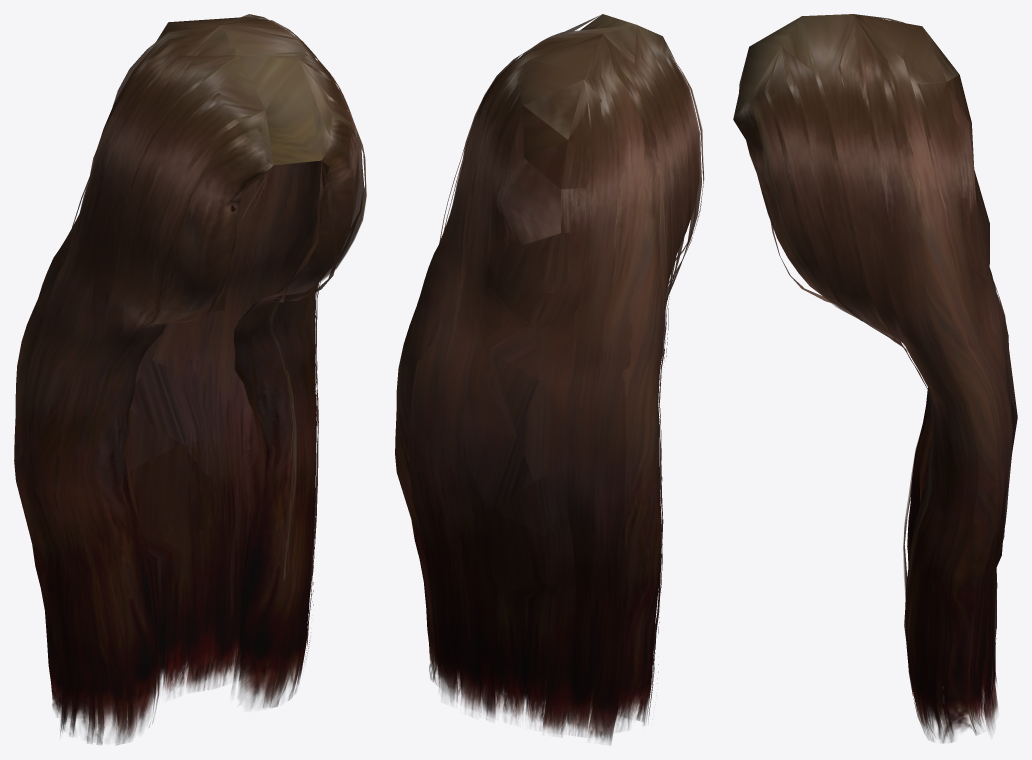
File: long.glb
3 views of the same model, side by side, from view 1: azimuth 30°, elevation 25°; view 2: azimuth 150°, elevation 25°; view 3: azimuth 270°, elevation 25° (orthographic). The views are drawn at different scales.
Visible parts, largest first — view 1: hair_long; view 2: hair_long; view 3: hair_long.
Part boxes in pixels (x1,y1,x2,y2): hair_long: (14, 14, 366, 744); hair_long: (395, 14, 704, 744); hair_long: (733, 14, 1017, 743).
Bounding box in the file's own units: 0.3168 × 0.7601 × 0.287.
Materials: 1 (1 with a texture image).
